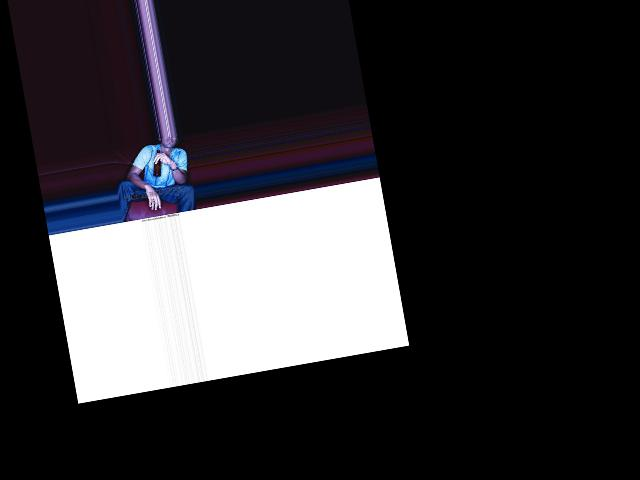beer: (148, 149, 164, 177)
